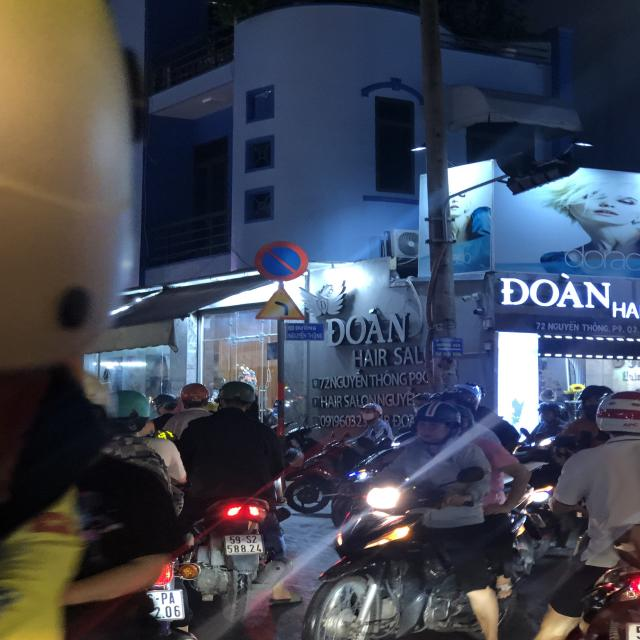Bien bao cam do xe: (251, 235, 314, 284)
Bien bao cho ngoat nguy hiem: (253, 284, 310, 324)
